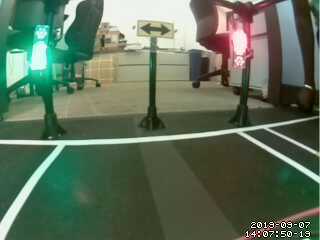Left_Right_sign: (135, 18, 177, 37)
Traffic_light_green: (31, 27, 49, 71)
Traffic_light_red: (232, 27, 249, 62)
